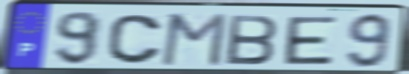9: (54, 10, 105, 68), (345, 11, 394, 70)
B: (224, 14, 280, 67)
C: (105, 12, 165, 66)
E: (283, 15, 340, 67)
M: (158, 11, 230, 68)
